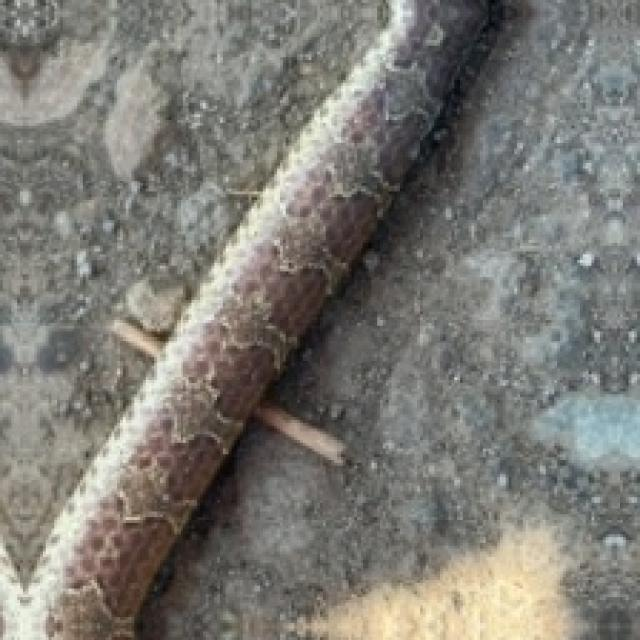mullers wolf snake: (0, 0, 486, 637), (0, 3, 114, 126)
